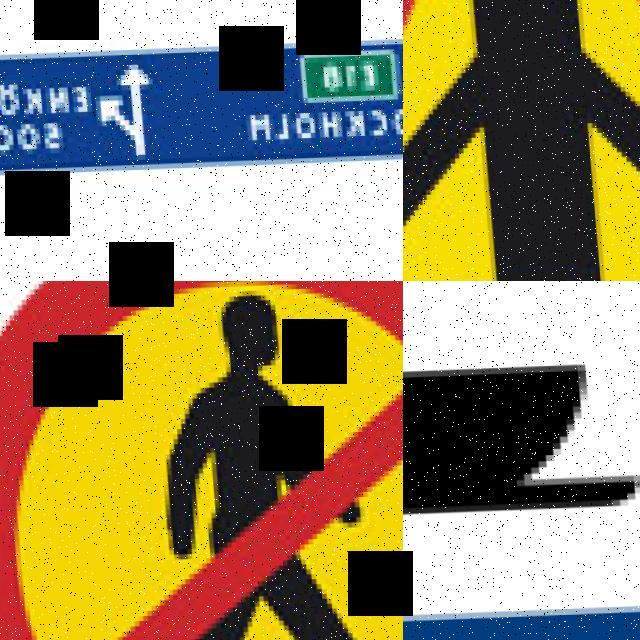166: (403, 0, 640, 281)
31: (0, 281, 403, 640)
67: (0, 33, 403, 176)
Refreshments: (403, 281, 640, 640)
